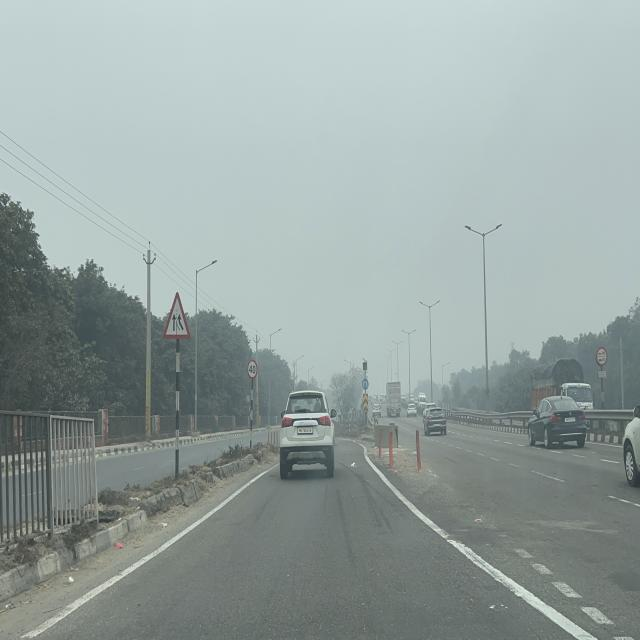KEEP_EITHER_SIDE: (362, 378, 369, 391)
SPEED_LIMIT_40: (247, 359, 258, 380)
WARNING: (162, 290, 192, 340)
